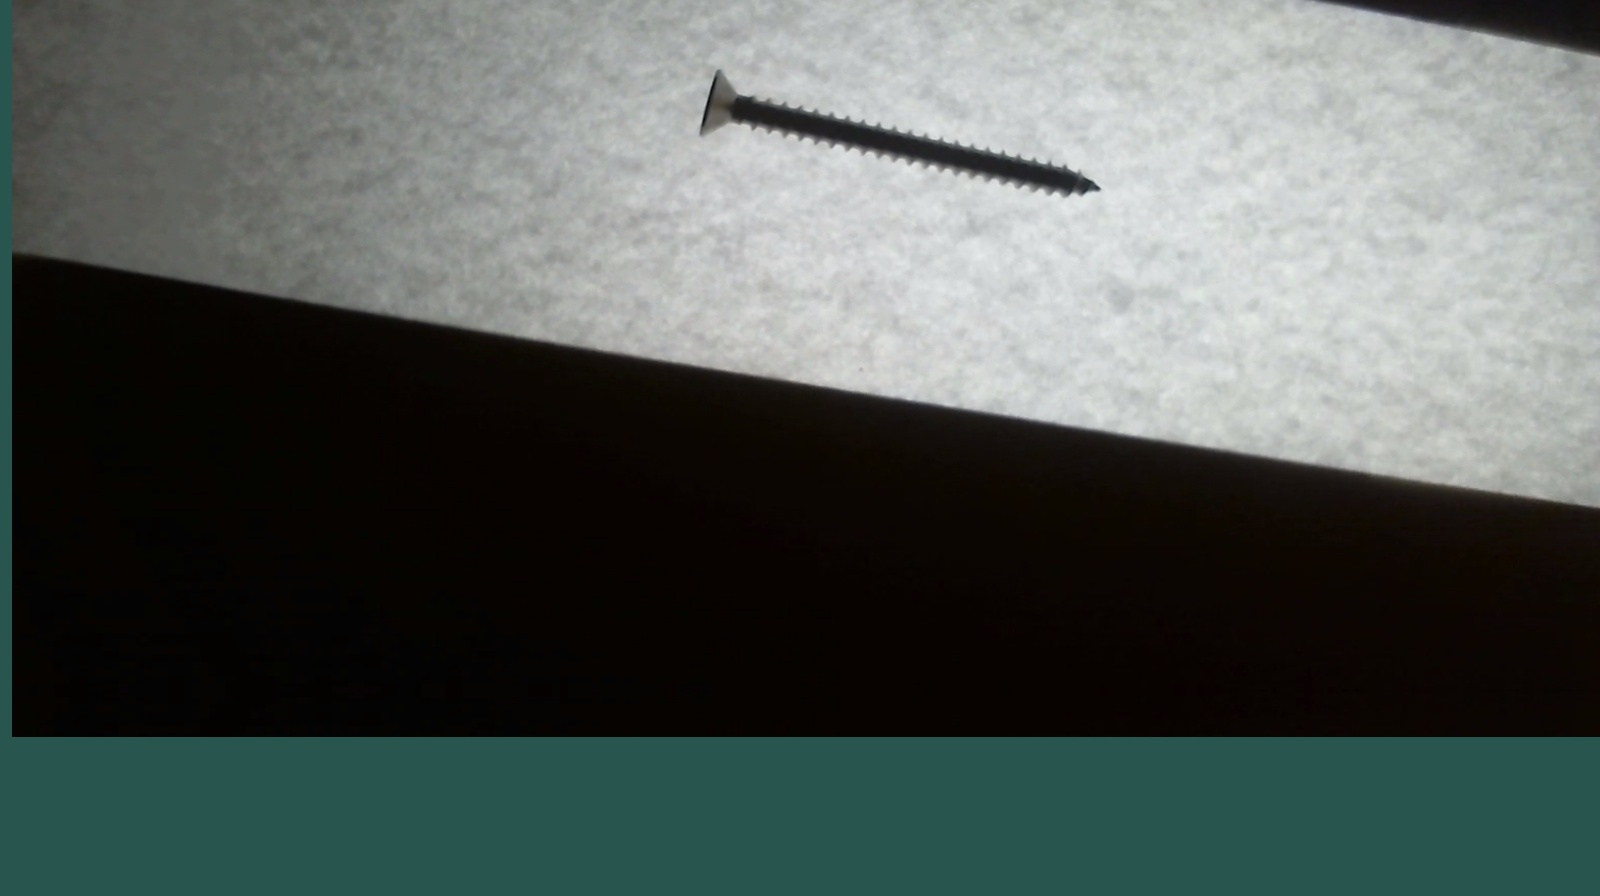S002: (680, 55, 1132, 215)
